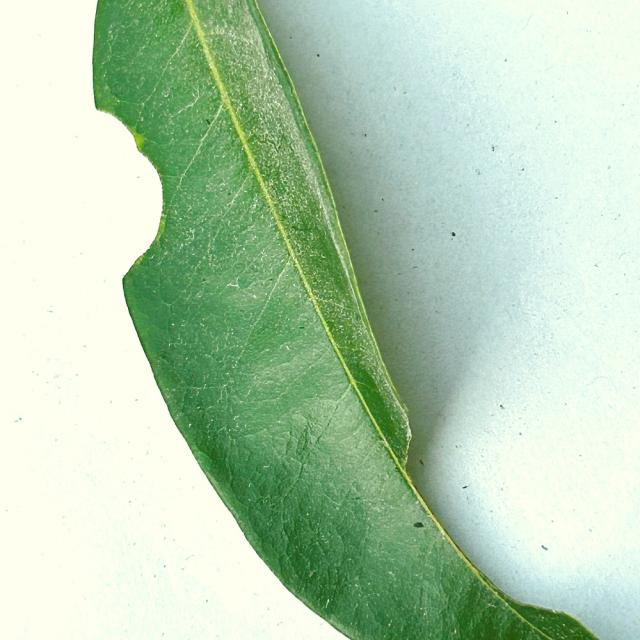Deficiency Leaf: (419, 440, 552, 605), (76, 112, 164, 276)
Lychee: (91, 0, 598, 639)
